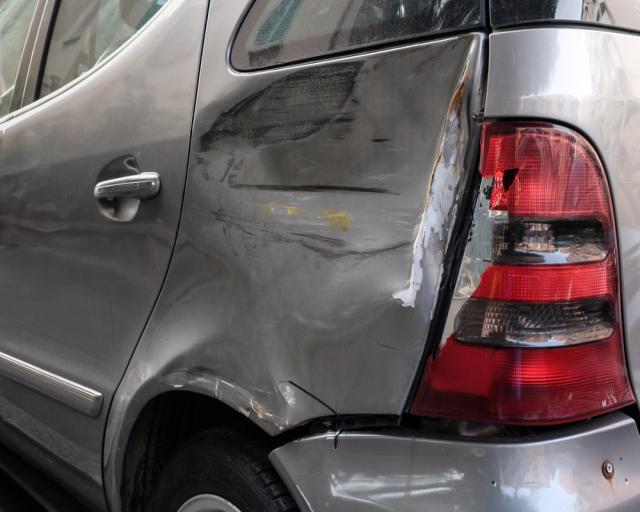dent: (175, 34, 484, 428)
lamp broken: (408, 120, 636, 428)
